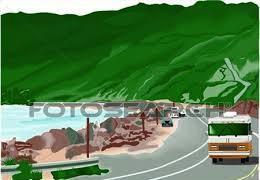bus: (202, 111, 252, 166)
